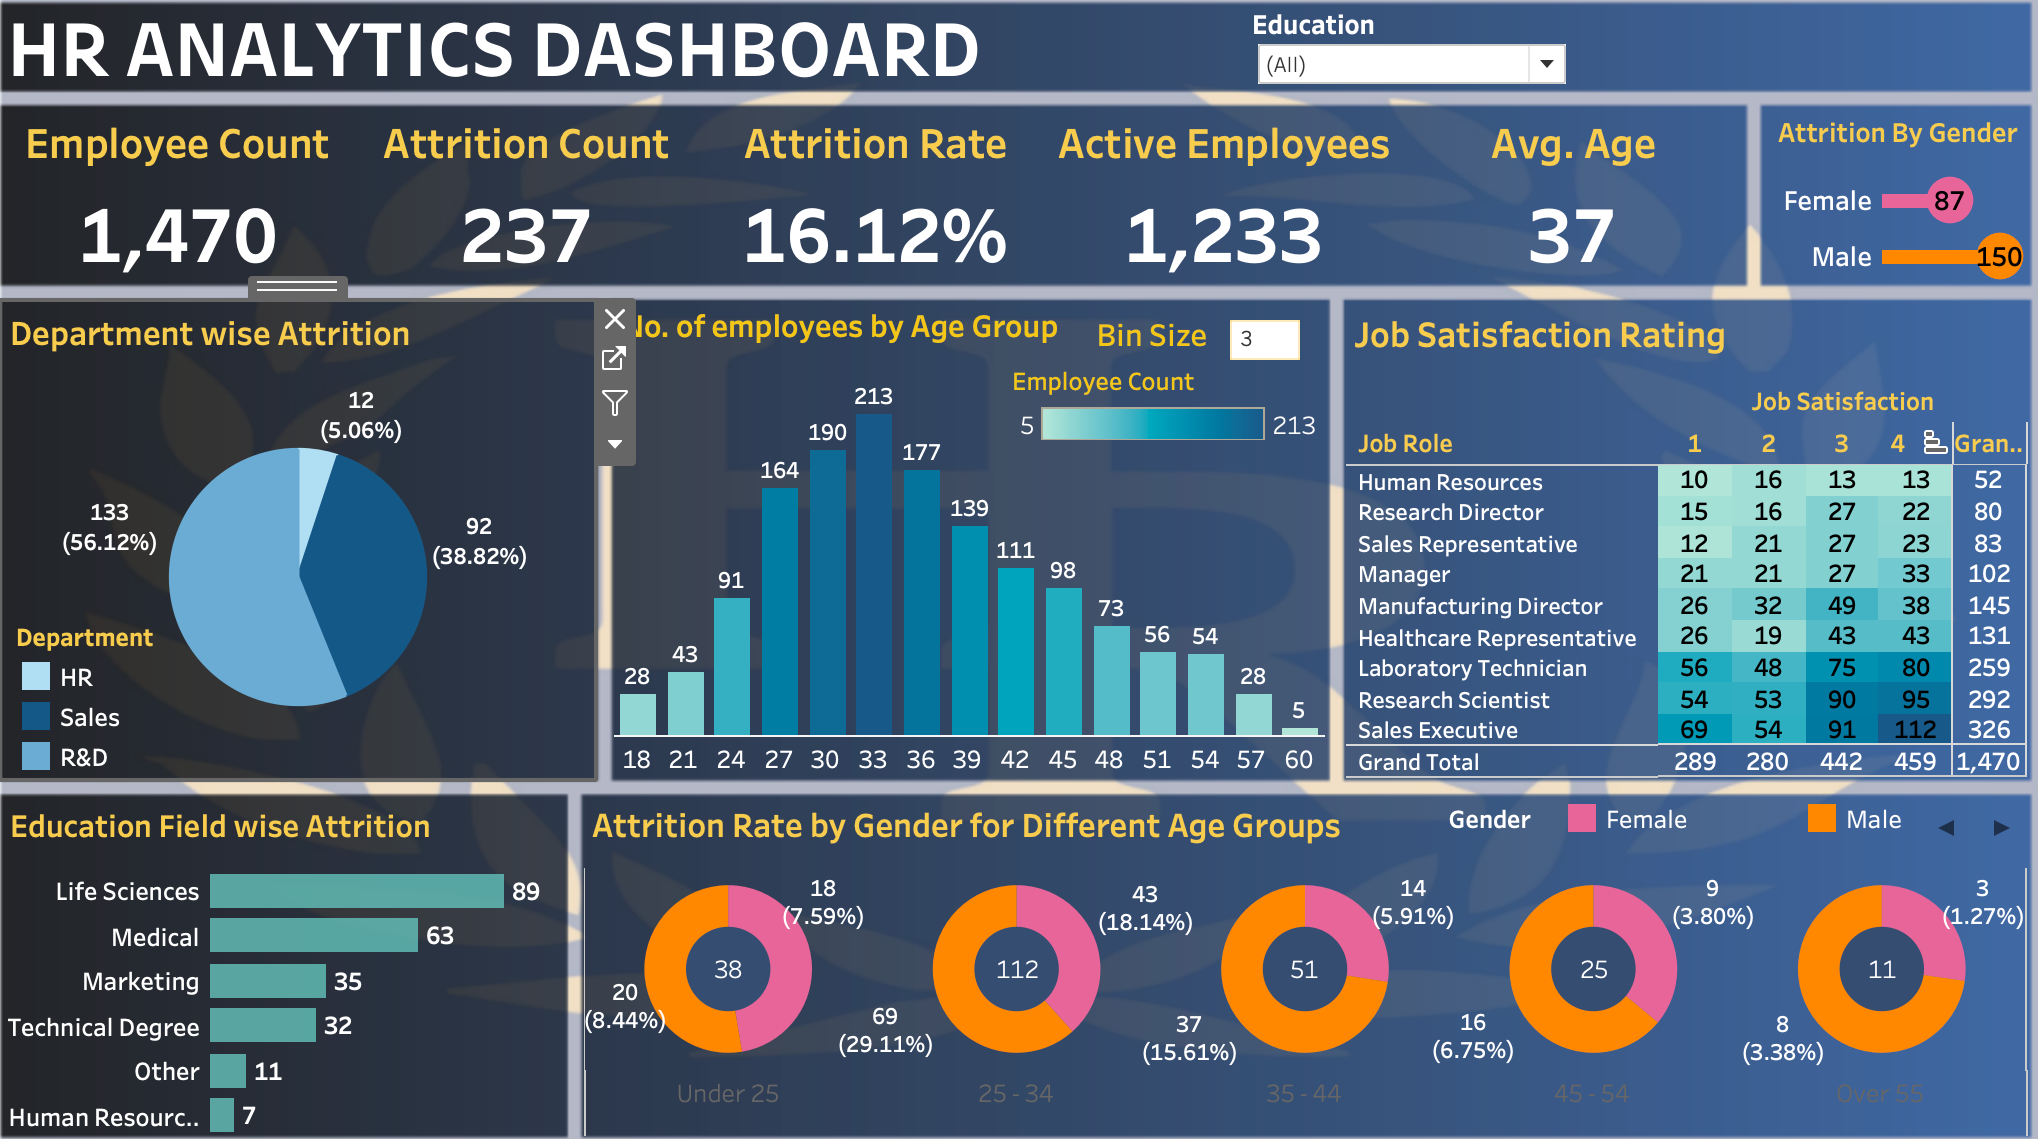

The page's visual inventory and layout, read from the dashboard file:
{"tool":"tableau","page":{"name":"HR Analytics Dashboard","canvas":[1050,600],"ordinal":0},"visuals":[{"type":"image","param":"/Users/ananyasaini/Downloads/HR background.pptx.png","box":[8,8,1034,584]},{"type":"text","box":[17,16,565,43]},{"type":"filter","title":"Department wise Attrition","param":"[federated.0xjo2j809ytndy14wn94s0ho5sag].[none:Education:nk]","box":[642,18,160,40]},{"type":"worksheet","title":"KPI","mark":"Automatic","box":[18,68,872,90]},{"type":"worksheet","title":"Attrition By Gender","mark":"Automatic","rows":["Gender"],"cols":["Calculation_2920584402545586176","Calculation_2920584402545586176"],"box":[901,68,130,89]},{"type":"worksheet","title":"No. of employees by Age Group","mark":"Automatic","rows":["Employee Count"],"cols":["Age (bin)"],"box":[323,163,356,241]},{"type":"worksheet","title":"Department wise Attrition","mark":"Pie","box":[17,166,296,238]},{"type":"worksheet","title":"Job Satisfaction Rating","mark":"Square","rows":["Job Role"],"cols":["Job Satisfaction"],"box":[689,166,341,238]},{"type":"parameter","param":"[Parameters].[Parameter 1]","box":[556,172,113,29]},{"type":"legend","title":"No. of employees by Age Group","param":"[federated.0xjo2j809ytndy14wn94s0ho5sag].[sum:Employee Count:qk]","box":[522,197,157,38]},{"type":"legend","title":"Department wise Attrition","param":"[federated.0xjo2j809ytndy14wn94s0ho5sag].[none:Department:nk]","box":[24,325,78,75]},{"type":"worksheet","title":"Attrition Rate by Gender for Different Age Groups","mark":"Pie","rows":["Calculation_3018326588243288066","Calculation_3018326588243288066"],"cols":["CF_age band"],"box":[308,412,722,172]},{"type":"worksheet","title":"Education Field wise Attrition ","mark":"Automatic","rows":["Education Field"],"cols":["Calculation_2920584402545586176"],"box":[17,413,282,171]},{"type":"legend","title":"Attrition Rate by Gender for Different Age Groups","param":"[federated.0xjo2j809ytndy14wn94s0ho5sag].[none:Gender:nk]","box":[725,414,306,31]}]}

Visuals, with their boxes in screenshot pixels (x1, y1, x2, y2), scaled from the page's 1050x600 canvas onto the 2038x1139 screenshot:
image: 16:15:2022:1124
text: 33:30:1130:112
"Department wise Attrition" filter: 1246:34:1557:110
"KPI" worksheet: 35:129:1727:300
"Attrition By Gender" worksheet: 1749:129:2001:298
"No. of employees by Age Group" worksheet: 627:309:1318:767
"Department wise Attrition" worksheet (Pie marks): 33:315:608:767
"Job Satisfaction Rating" worksheet (Square marks): 1337:315:1999:767
parameter: 1079:327:1298:382
"No. of employees by Age Group" legend: 1013:374:1318:446
"Department wise Attrition" legend: 47:617:198:759
"Attrition Rate by Gender for Different Age Groups" worksheet (Pie marks): 598:782:1999:1109
"Education Field wise Attrition " worksheet: 33:784:580:1109
"Attrition Rate by Gender for Different Age Groups" legend: 1407:786:2001:845
